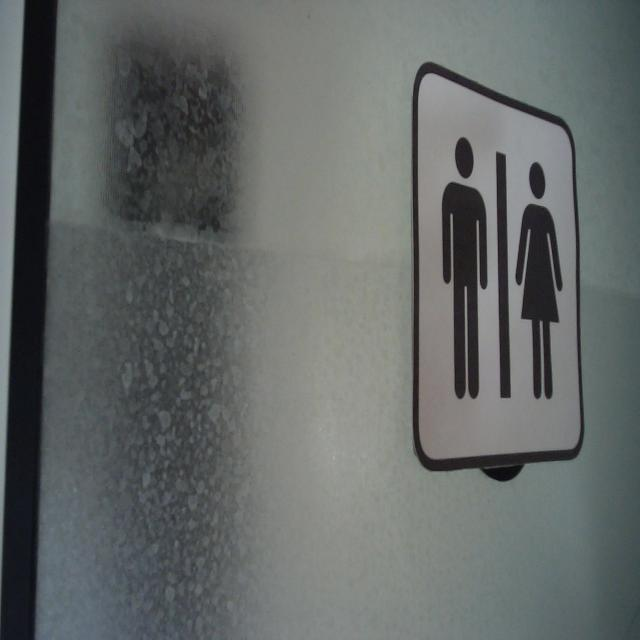restroom: (409, 57, 587, 476)
